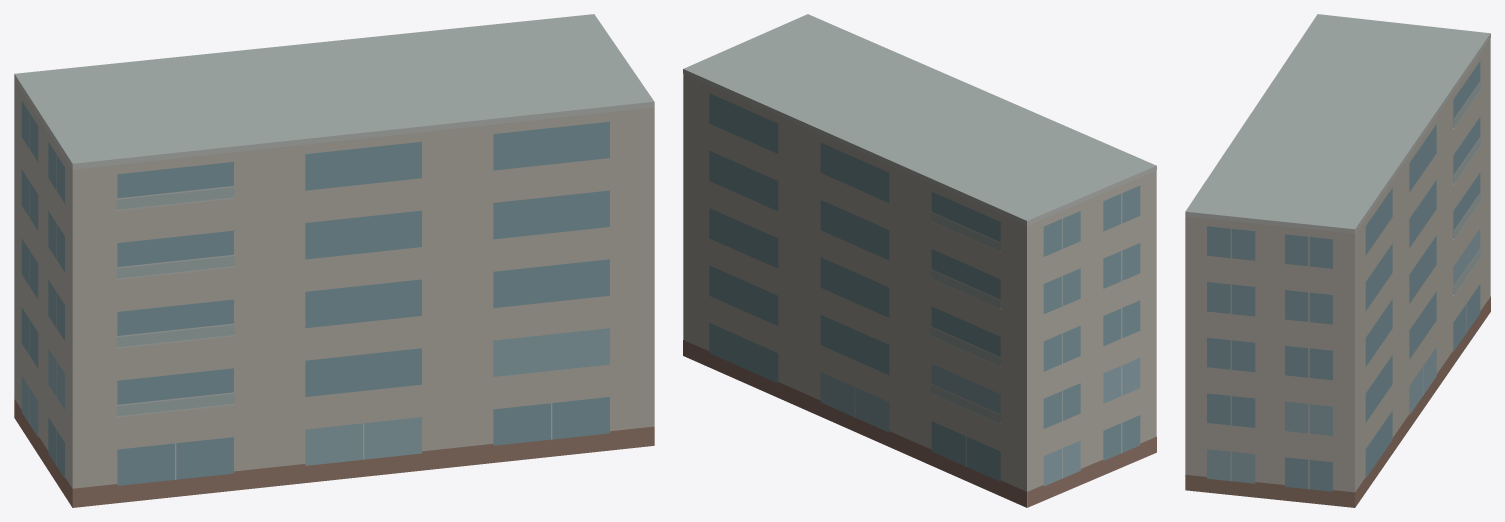
Rendered from survey-upis-32788805.glb.
3 renders of one model, left to right at view 1: azimuth 30°, elevation 25°; view 2: azimuth 150°, elevation 25°; view 3: azimuth 270°, elevation 25°, orthographic. The views are drawn at different scales.
Parts seen in each view (by area): view 1: survey-upis-32788805.tmp; view 2: survey-upis-32788805.tmp; view 3: survey-upis-32788805.tmp.
Part boxes in pixels (x1,y1,x2,y2): survey-upis-32788805.tmp: [14, 14, 654, 507]; survey-upis-32788805.tmp: [683, 14, 1156, 507]; survey-upis-32788805.tmp: [1185, 14, 1490, 507].
Size of the model in its own units: 24.37 by 14.7 by 14.62.
